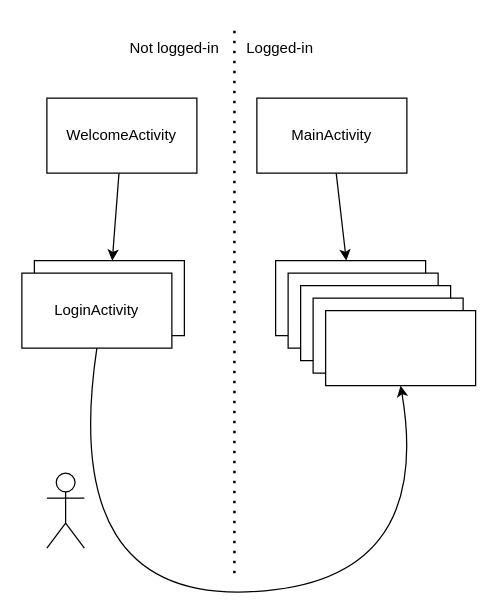
This 498x614 diagram has some shape labels left out. The centre of each missing label's shape, as x and y in pixels:
"HomeFragment" goes at point (400, 347).
"The user" goes at point (65, 510).
